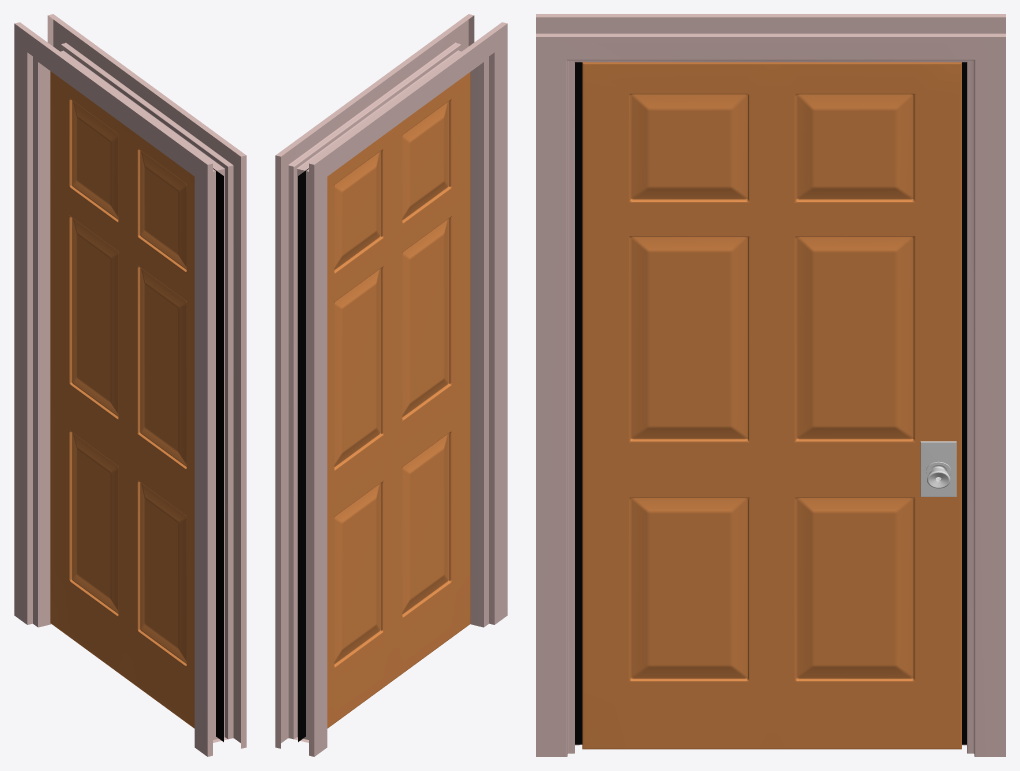
Rendered from doormaker.glb.
3 views of the same model, side by side, from view 1: azimuth 30°, elevation 25°; view 2: azimuth 150°, elevation 25°; view 3: azimuth 270°, elevation 25° (orthographic). The views are drawn at different scales.
Parts seen in each view (by area): view 1: uploads_files_715338_basic_door.007, uploads_files_715338_basic_door.008, Plane; view 2: uploads_files_715338_basic_door.007, uploads_files_715338_basic_door.008, Plane; view 3: uploads_files_715338_basic_door.007, uploads_files_715338_basic_door.008, Plane.
Part boxes in pixels (x1,y1,x2,y2): uploads_files_715338_basic_door.007: (50,71,194,728); uploads_files_715338_basic_door.008: (14,14,246,756); Plane: (213,168,223,741); uploads_files_715338_basic_door.007: (327,72,470,728); uploads_files_715338_basic_door.008: (275,14,507,756); Plane: (298,168,308,741); uploads_files_715338_basic_door.007: (582,62,961,749); uploads_files_715338_basic_door.008: (536,14,1005,756); Plane: (575,62,966,744).
Size of the model in its own units: 2.46 by 30.19 by 17.86.
